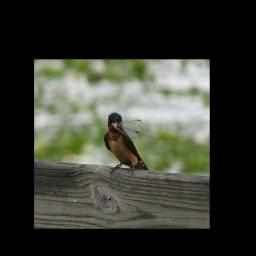Swallow: (104, 112, 149, 179)
